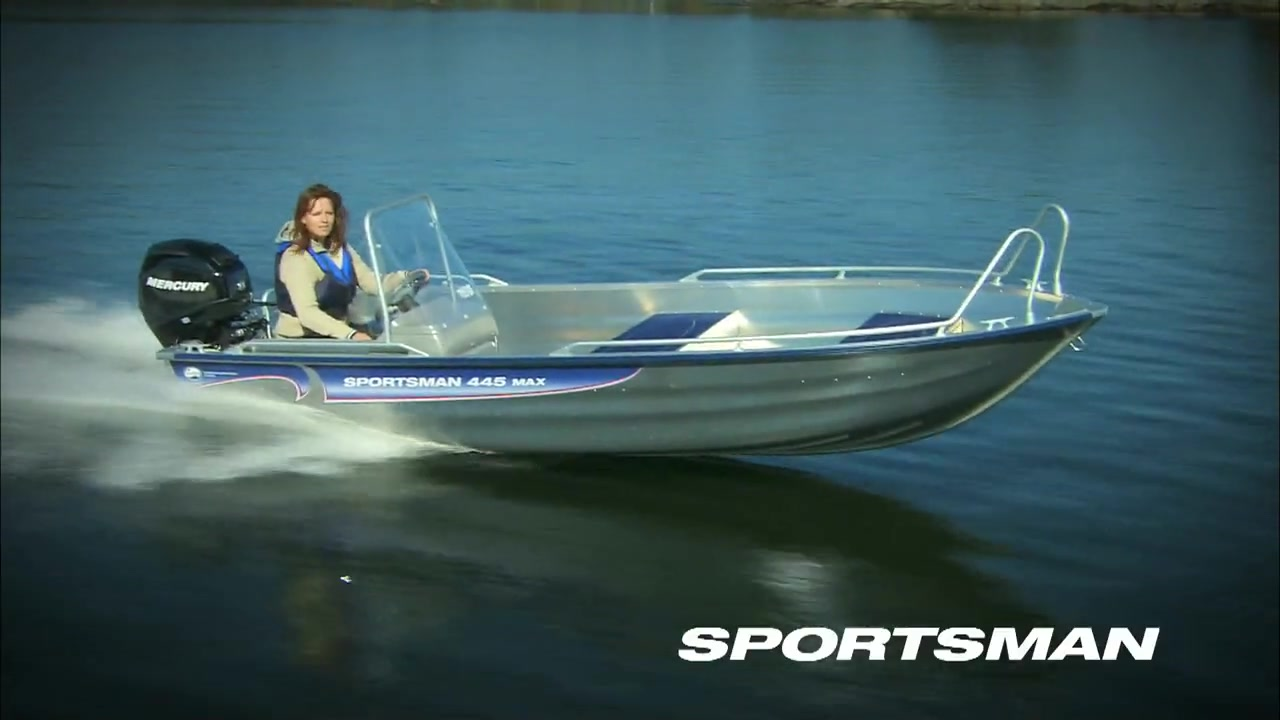boat: (140, 190, 1113, 467)
